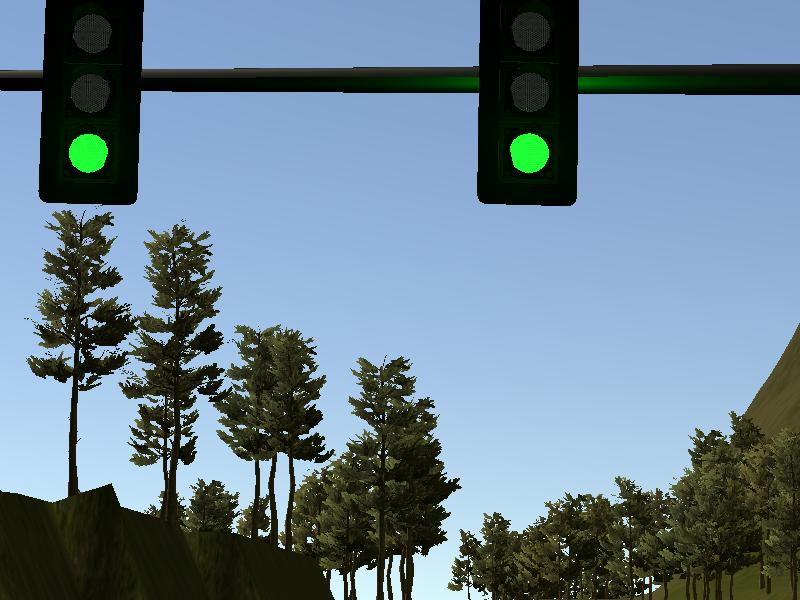green: (477, 1, 579, 208), (39, 1, 139, 204)
